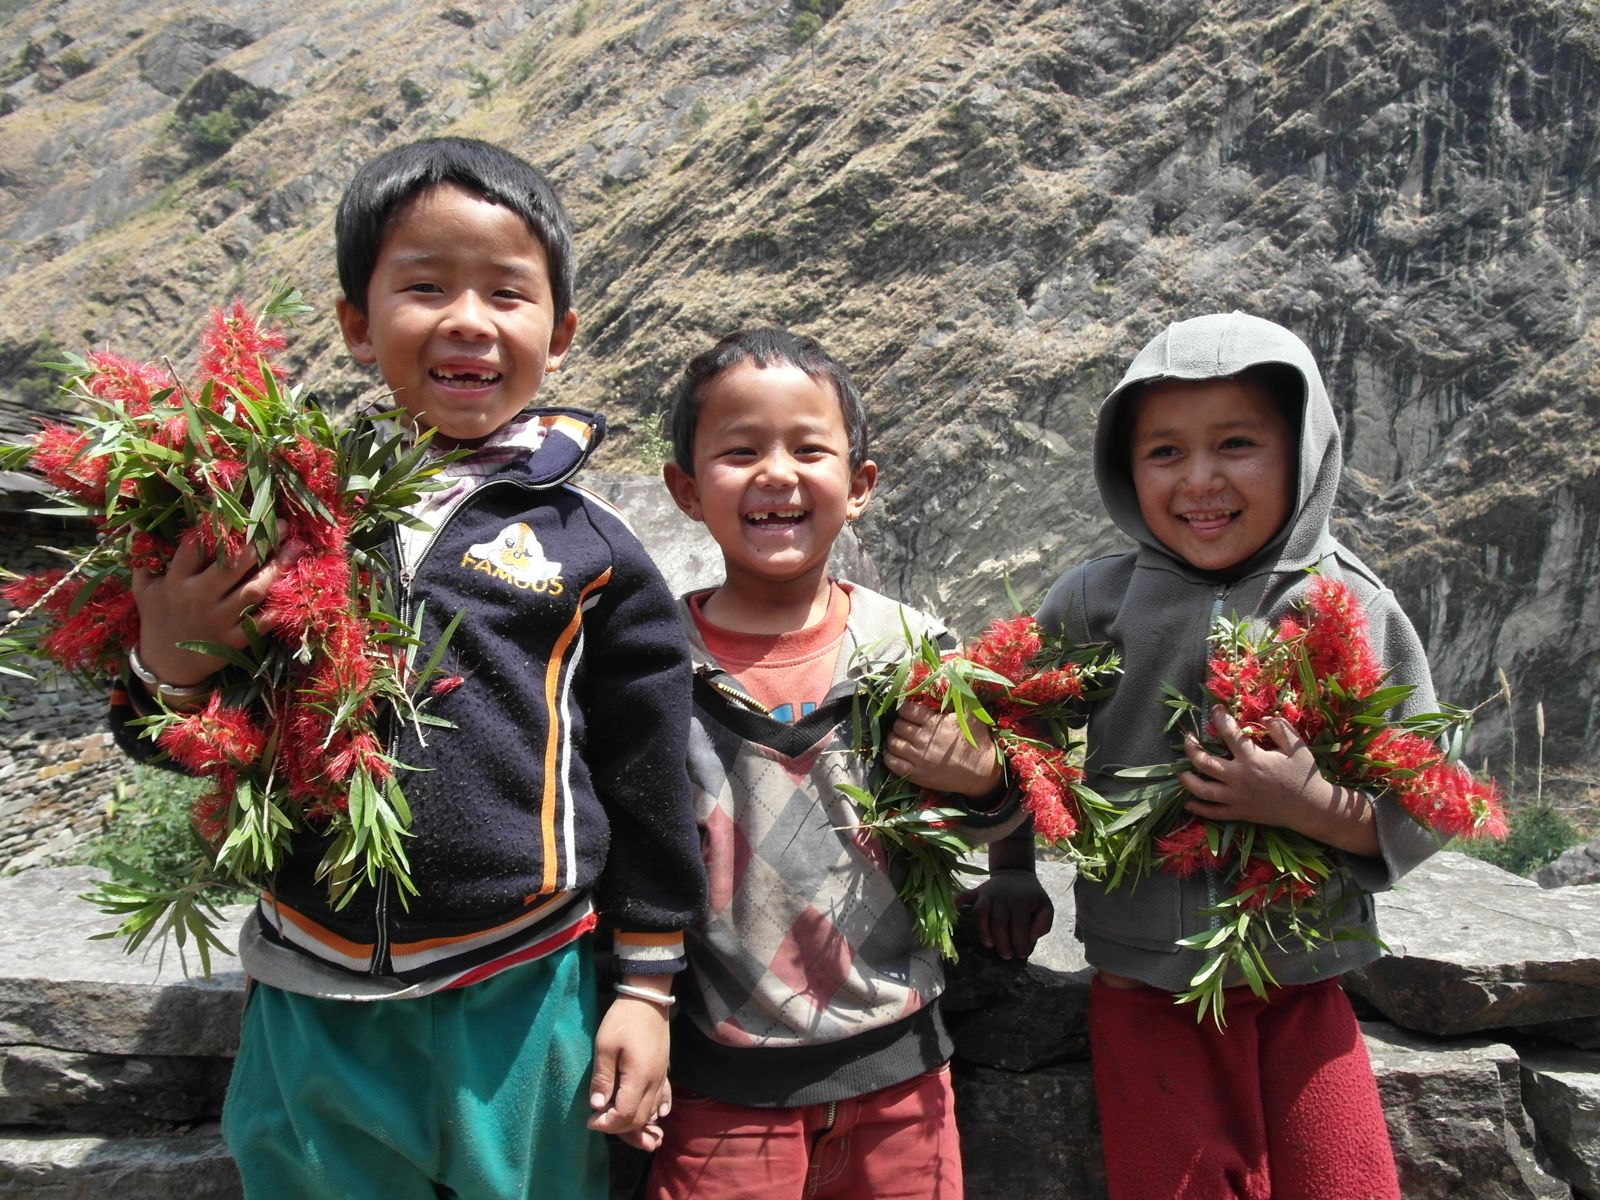human: (105, 135, 713, 1200), (999, 279, 1487, 1200), (617, 313, 1038, 1200)
